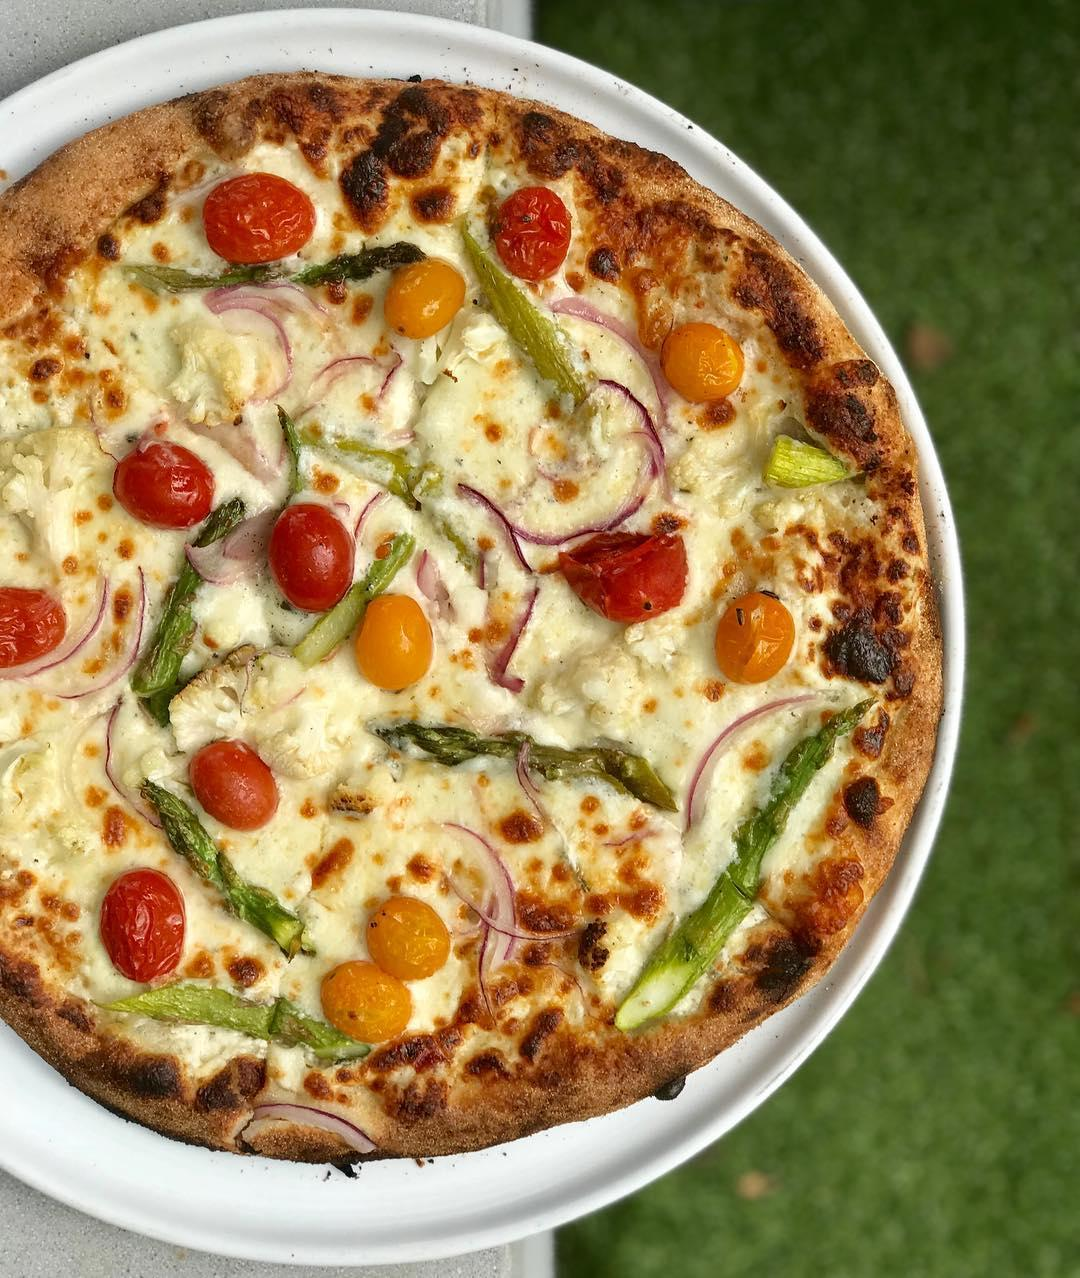Arugula: (616, 698, 871, 1056), (286, 396, 491, 568), (129, 758, 295, 933), (133, 966, 386, 1078), (136, 496, 253, 711), (376, 708, 664, 795), (466, 241, 589, 433), (746, 428, 852, 495), (305, 236, 430, 283), (116, 260, 274, 295)
Onion: (421, 811, 571, 981), (448, 481, 559, 675), (545, 371, 667, 526), (686, 704, 801, 811), (204, 301, 298, 406)
Pizza: (0, 73, 933, 1163)
Tomatoes: (200, 170, 310, 265), (571, 539, 690, 618), (170, 731, 280, 814), (355, 581, 430, 693), (108, 446, 217, 523), (275, 496, 351, 604), (483, 185, 565, 280), (106, 869, 183, 965), (721, 584, 793, 676), (313, 959, 405, 1029), (0, 589, 76, 671), (391, 251, 460, 341), (669, 305, 727, 394), (365, 901, 439, 972)
